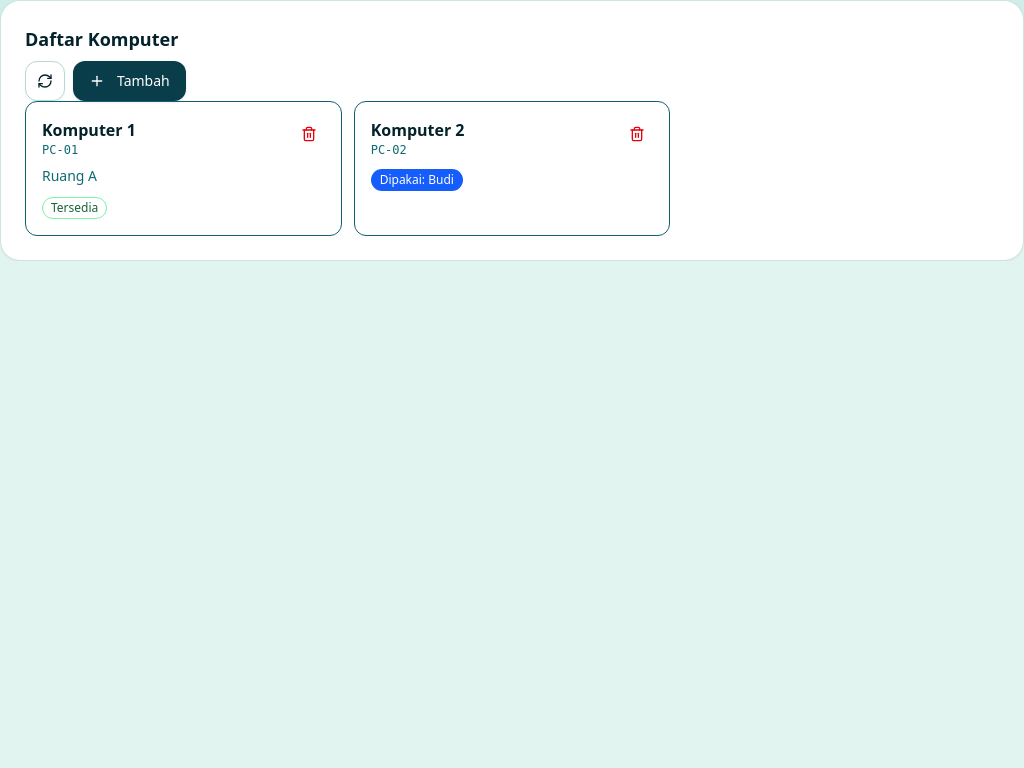
Scenario: StationsTab › membuka dialog Tambah saat tombol diklik
Check: the text "Komputer 1" is shown, box x1=42 y1=118 x2=136 y2=142
Click the button "Tambah" at (129, 81), box x1=73 y1=61 x2=186 y2=101
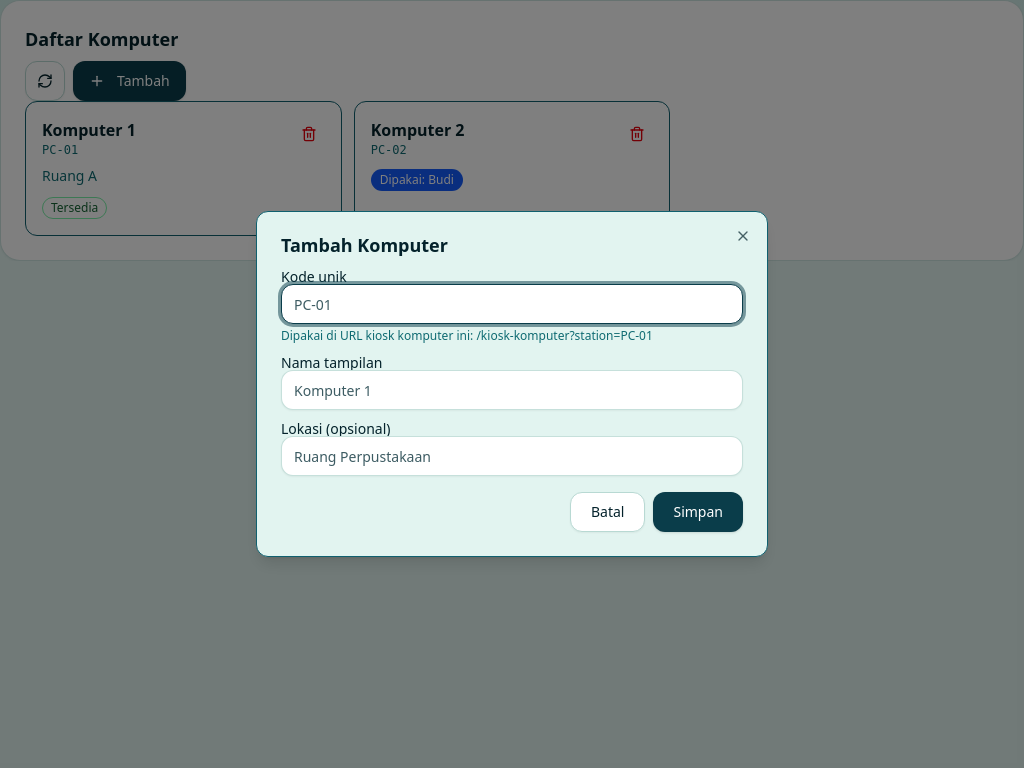
Check: the heading "Tambah Komputer" is shown, box x1=281 y1=233 x2=448 y2=257
Check: the field with placeholder "PC-01" is shown, box x1=281 y1=284 x2=743 y2=324
